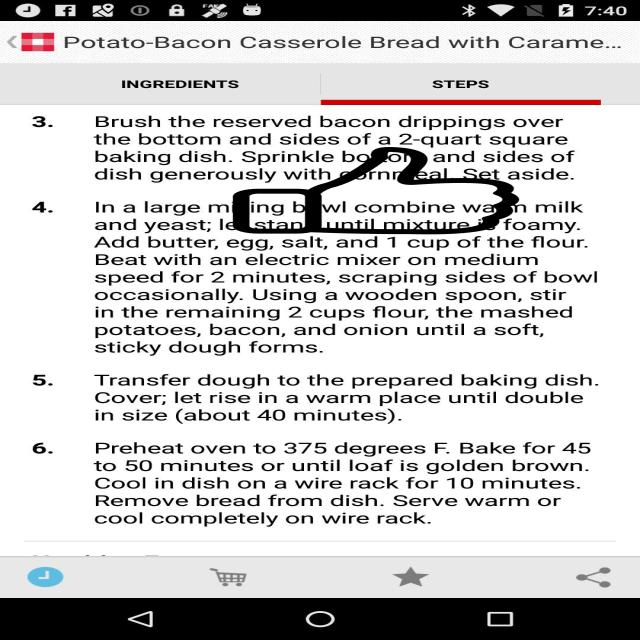privacy zuckering: (229, 147, 523, 234)
